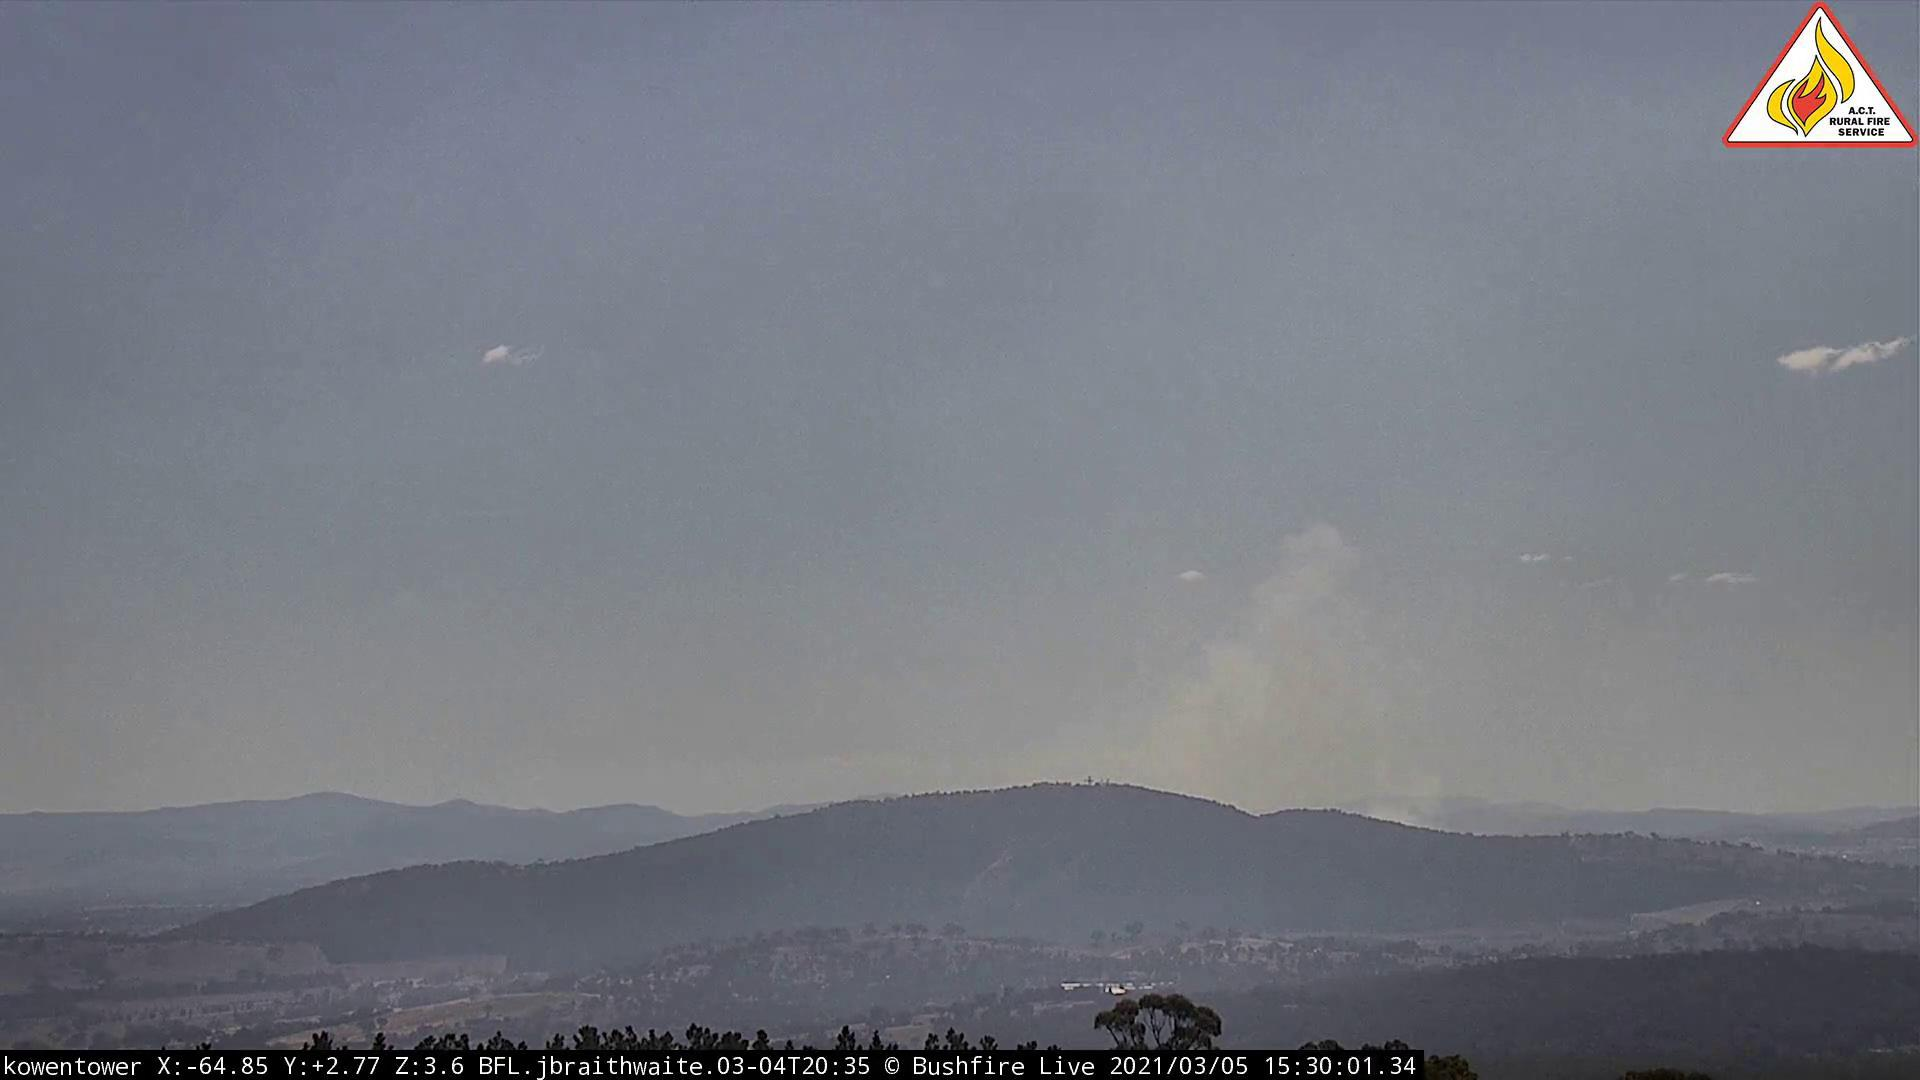Smoke: (1065, 508, 1493, 833)
